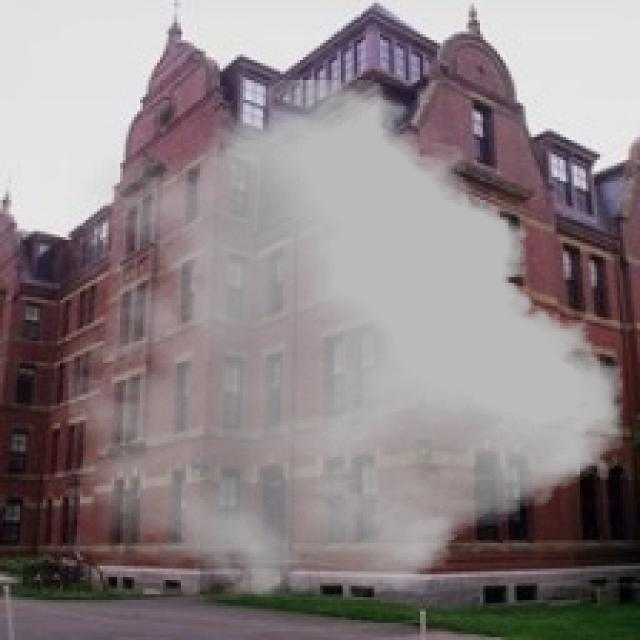smoke: (68, 80, 623, 600)
